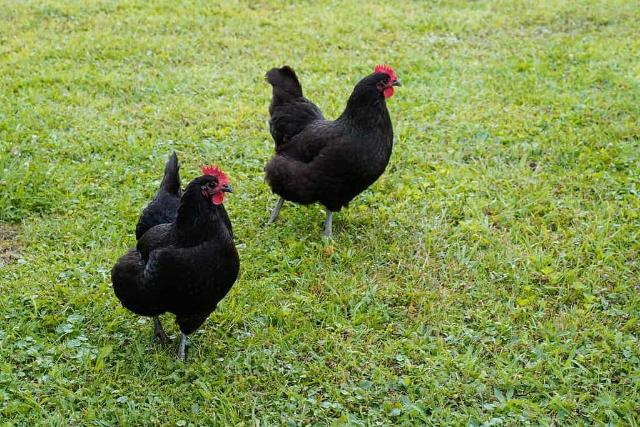Chicken: (110, 151, 241, 359), (263, 66, 403, 239)
